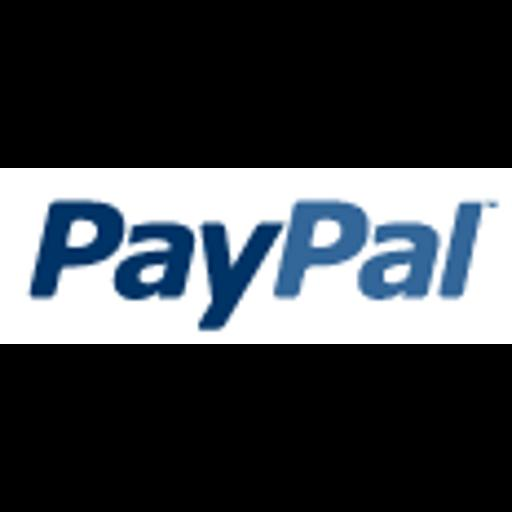PayPal: (0, 168, 512, 344)
